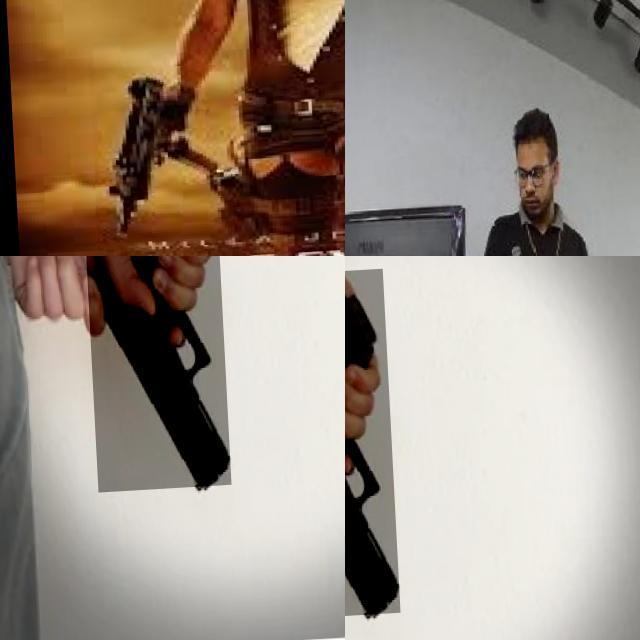gun-knife-thesis - v11 Yolov5 augmented: (79, 256, 226, 494), (86, 64, 232, 252), (345, 272, 418, 622)
